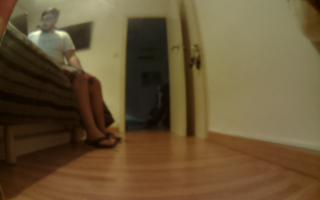person: (31, 6, 129, 151)
